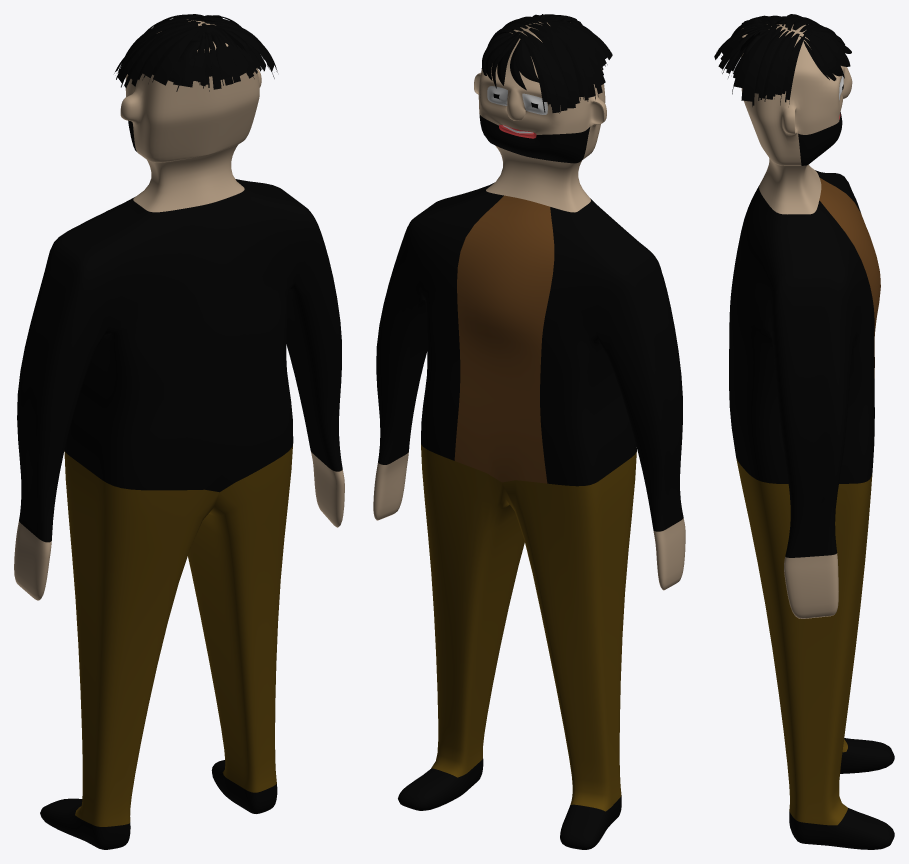
The model's file is Torvald_Kleidung_neu.fbx.
The picture shows the model from 3 angles, left to right: view 1: azimuth 30°, elevation 25°; view 2: azimuth 150°, elevation 25°; view 3: azimuth 270°, elevation 25°; orthographic projection. The views are drawn at different scales.
Visible parts, largest first — view 1: Cube, NurbsPath.003; view 2: Cube, NurbsPath.003; view 3: Cube, NurbsPath.003.
Boxes of the visible parts, x1,y1,x2,y2 form: Cube: (14,19,344,849); NurbsPath.003: (114,14,277,91); Cube: (373,21,685,849); NurbsPath.003: (481,14,612,113); Cube: (729,24,894,849); NurbsPath.003: (714,14,851,106).
Size of the model in its own units: 63.89 by 161 by 33.57.
